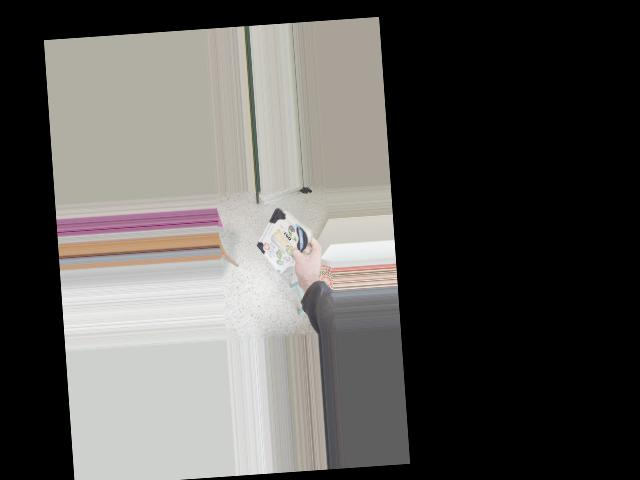cheese: (248, 206, 325, 265)
